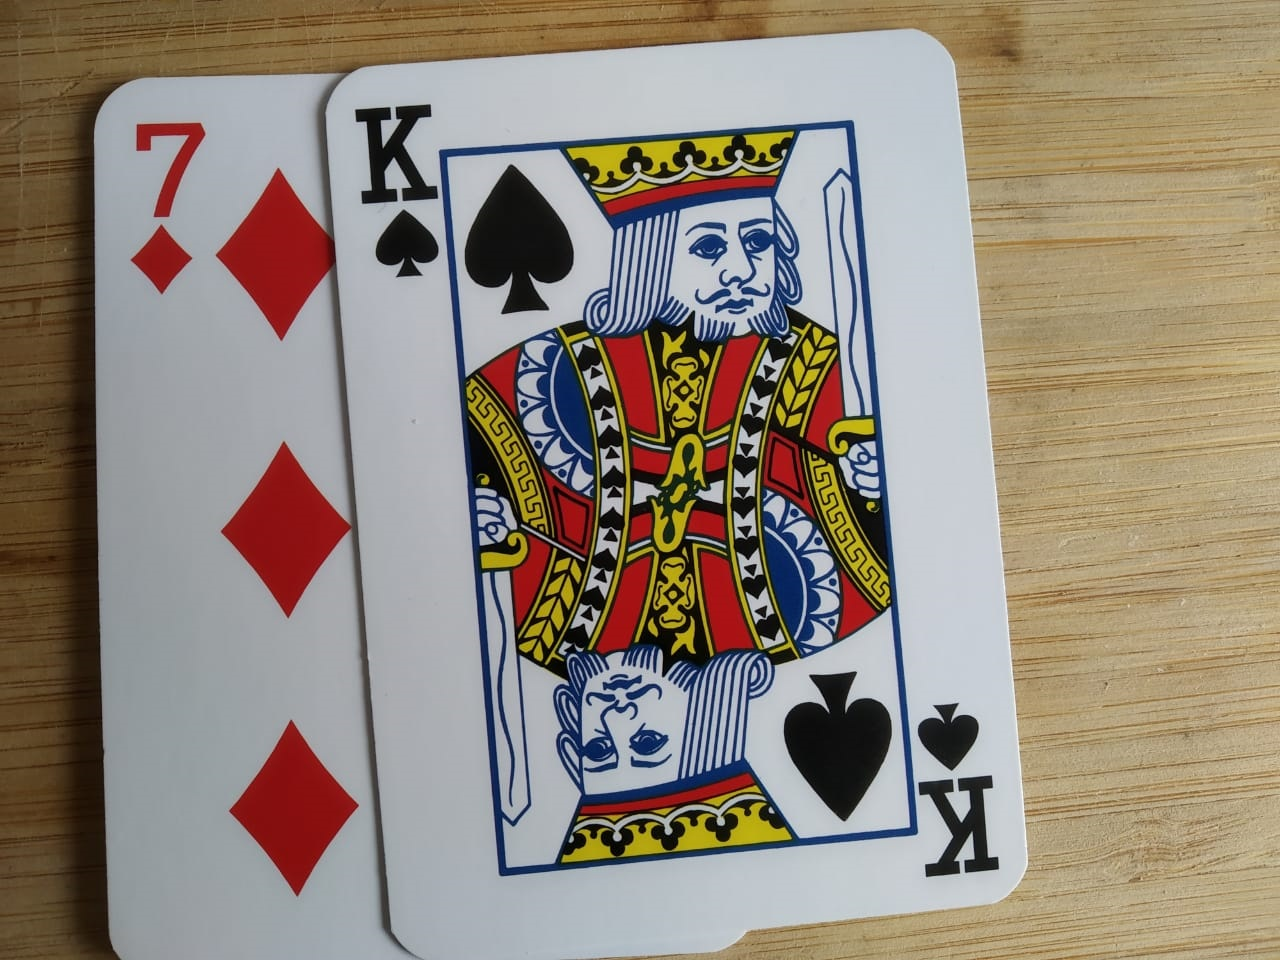king: (311, 43, 1071, 937)
